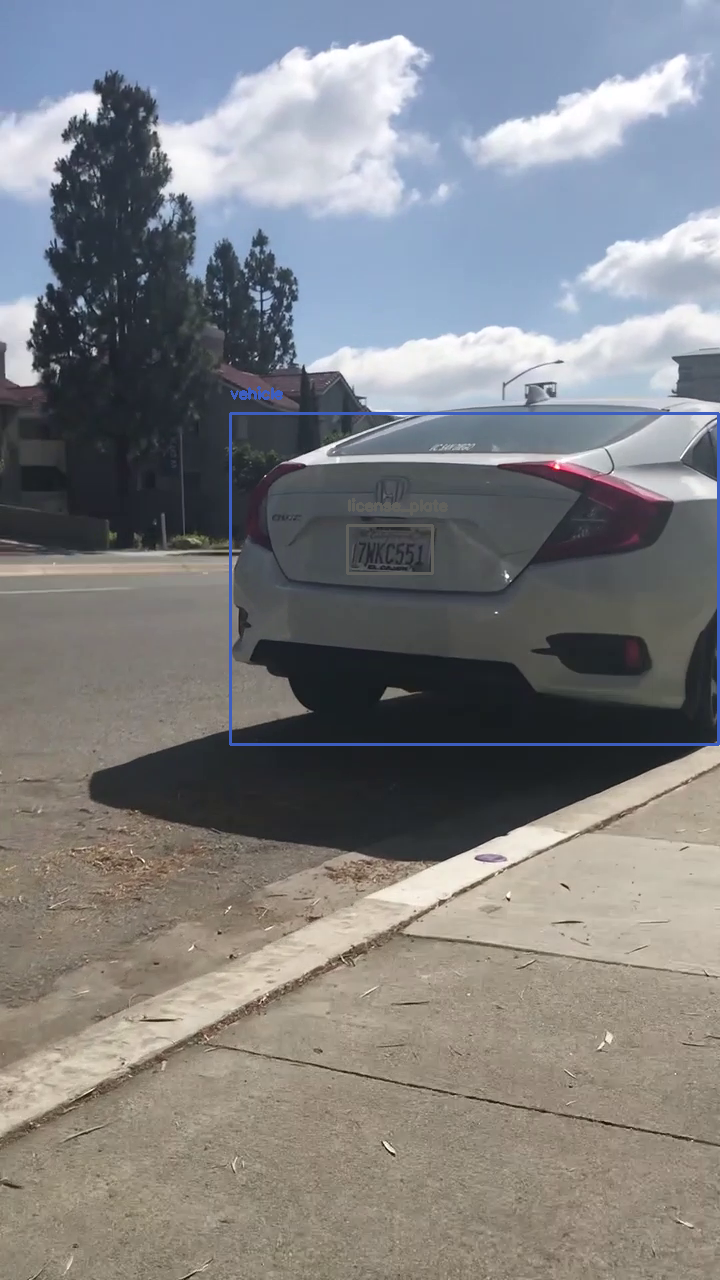license_plate: (347, 525, 432, 573)
vehicle: (230, 413, 718, 744)
